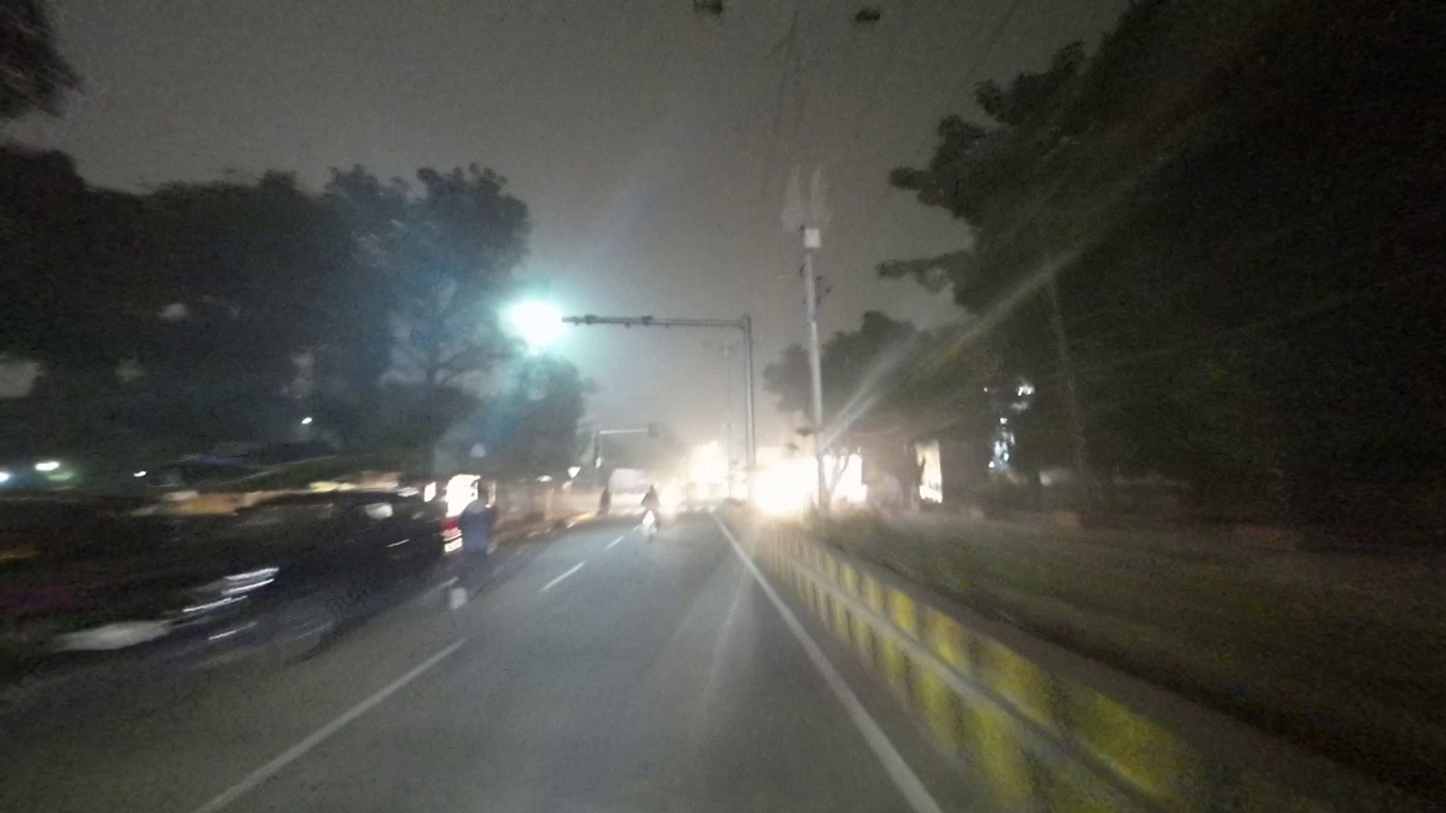streetlight: (686, 0, 797, 40), (802, 4, 888, 35)
